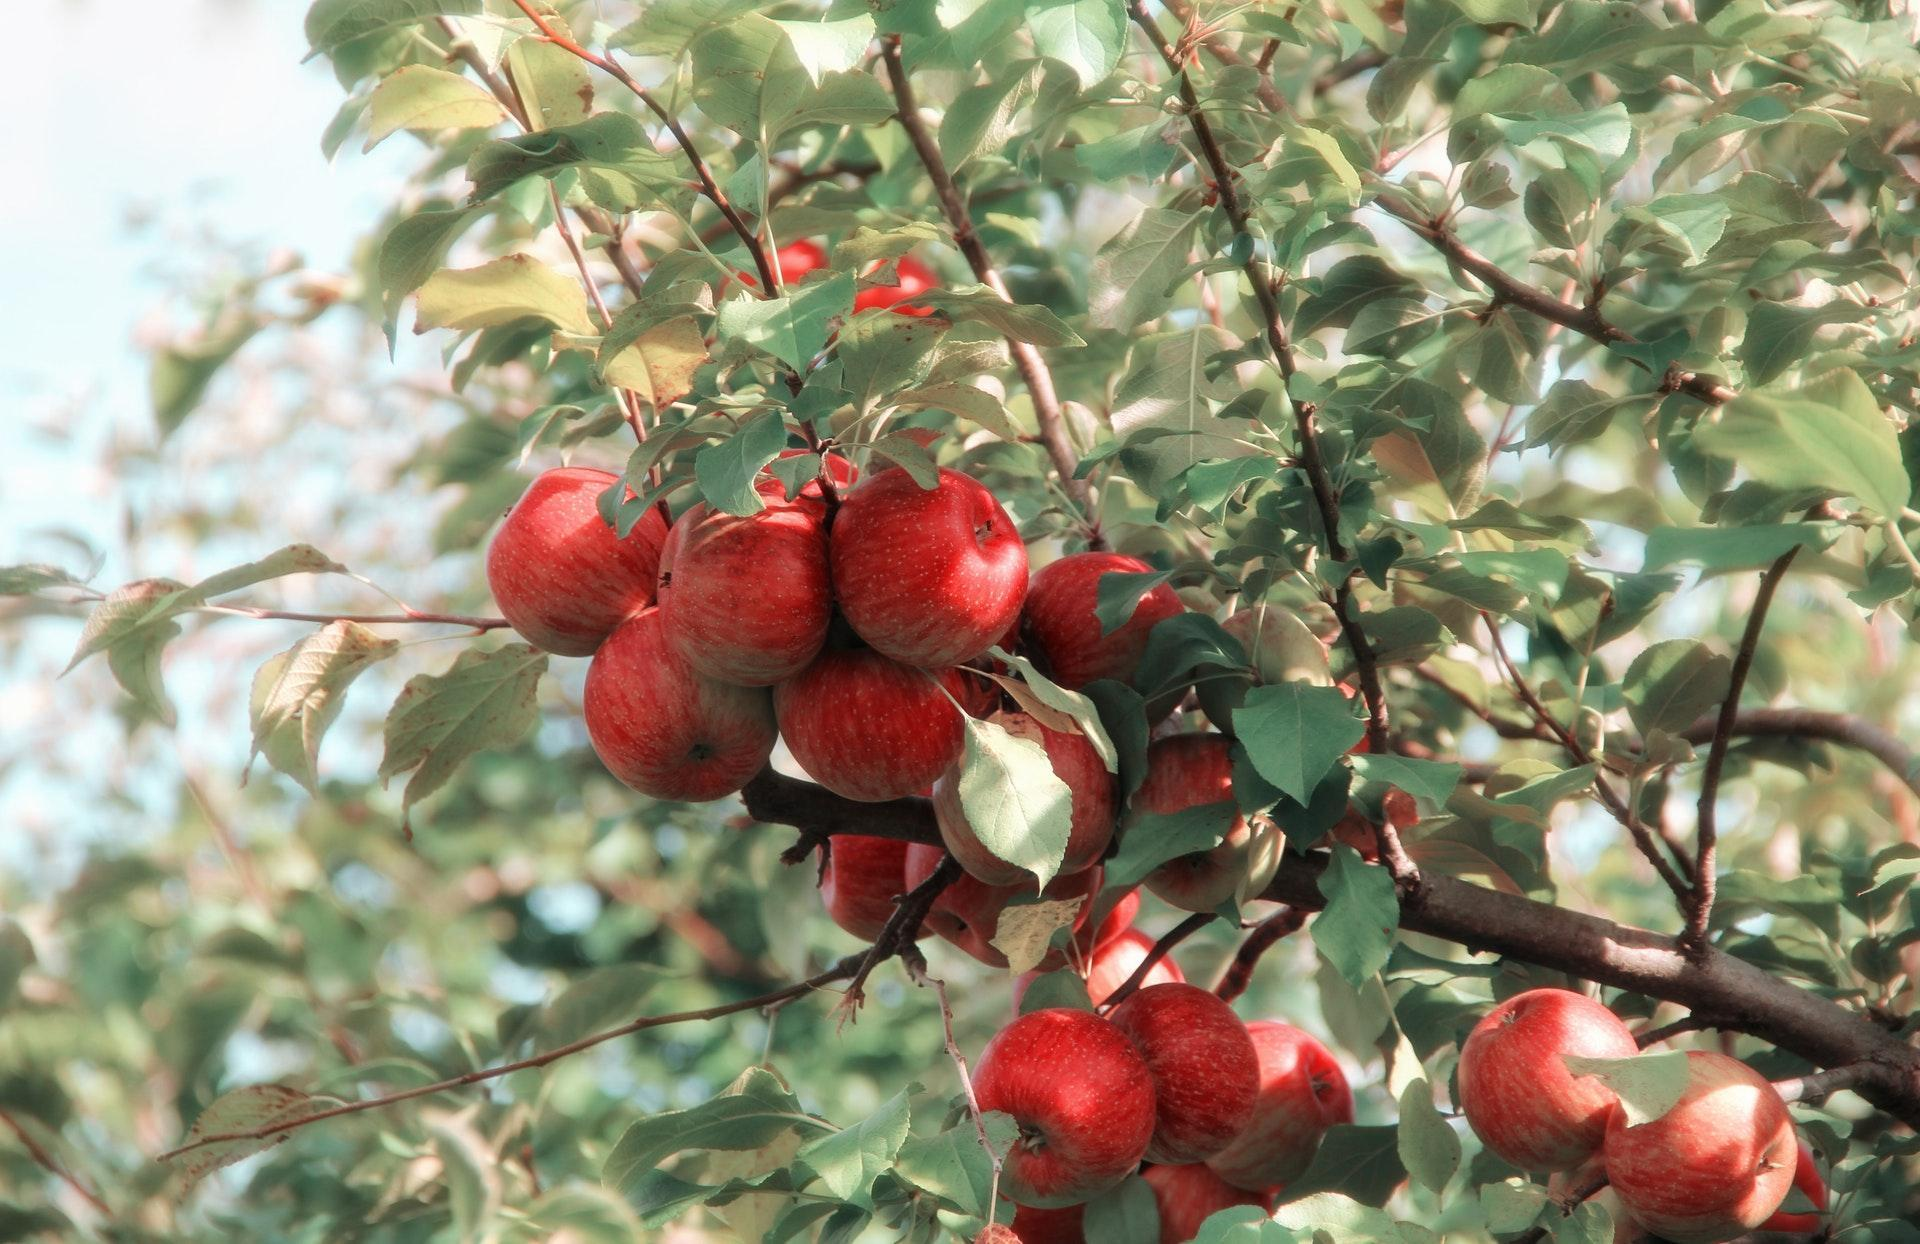apple: (1579, 1045, 1805, 1236), (826, 469, 1029, 672), (578, 607, 772, 812), (1454, 987, 1646, 1182), (966, 1009, 1155, 1203), (486, 466, 662, 660), (656, 481, 821, 687), (1107, 975, 1262, 1171), (1024, 550, 1188, 730), (1128, 730, 1289, 911), (775, 653, 973, 800), (1212, 1017, 1360, 1195)
